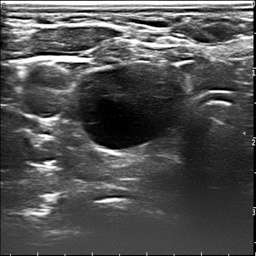mass: (77, 64, 184, 148)
